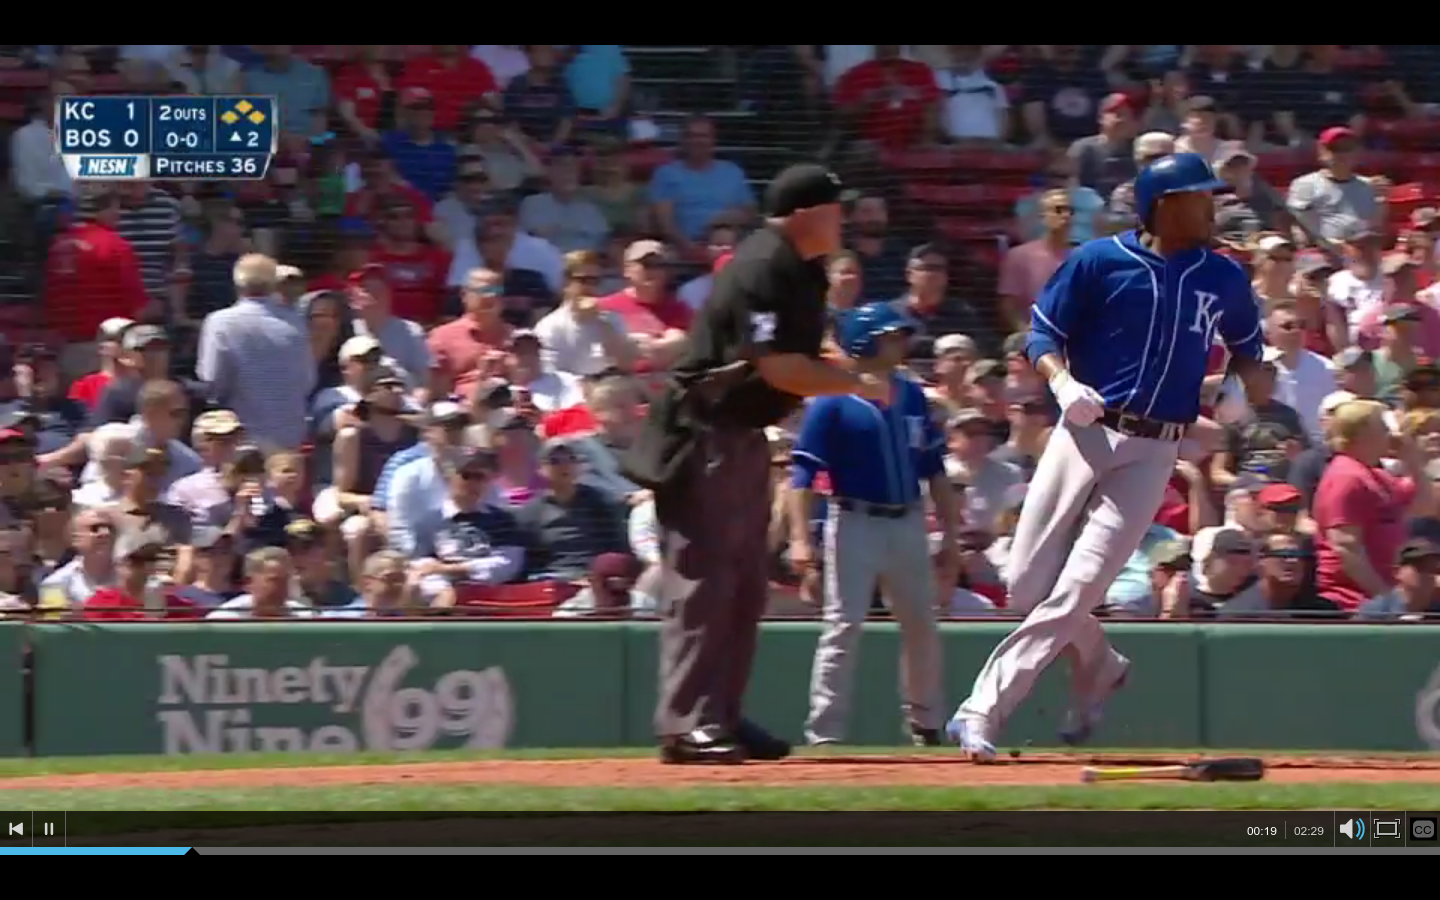baseball player: (950, 143, 1273, 760), (793, 299, 962, 749)
referee: (645, 160, 855, 765)
